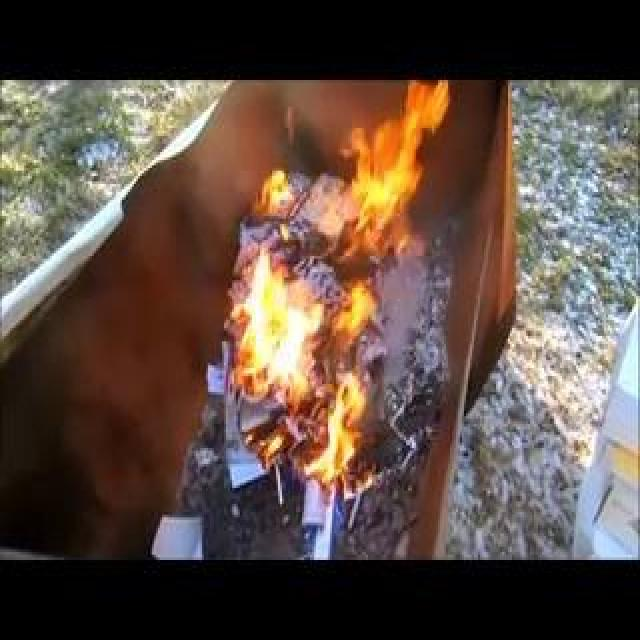Fire: (242, 302, 349, 410)
